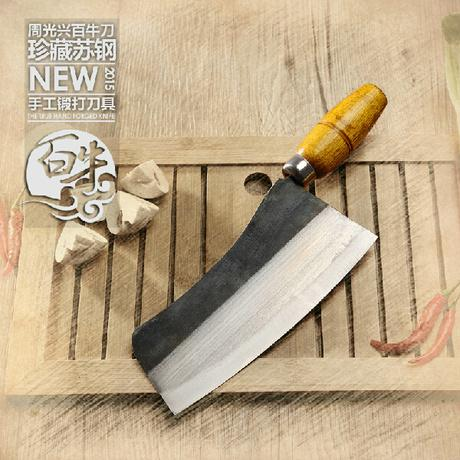knife: (127, 73, 395, 439)
